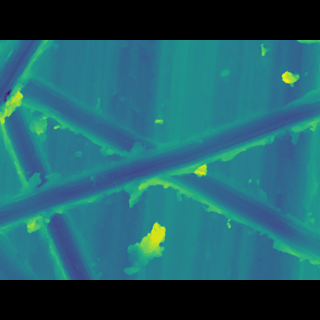Loch: (0, 95, 320, 237), (0, 103, 320, 213), (0, 117, 99, 250)
